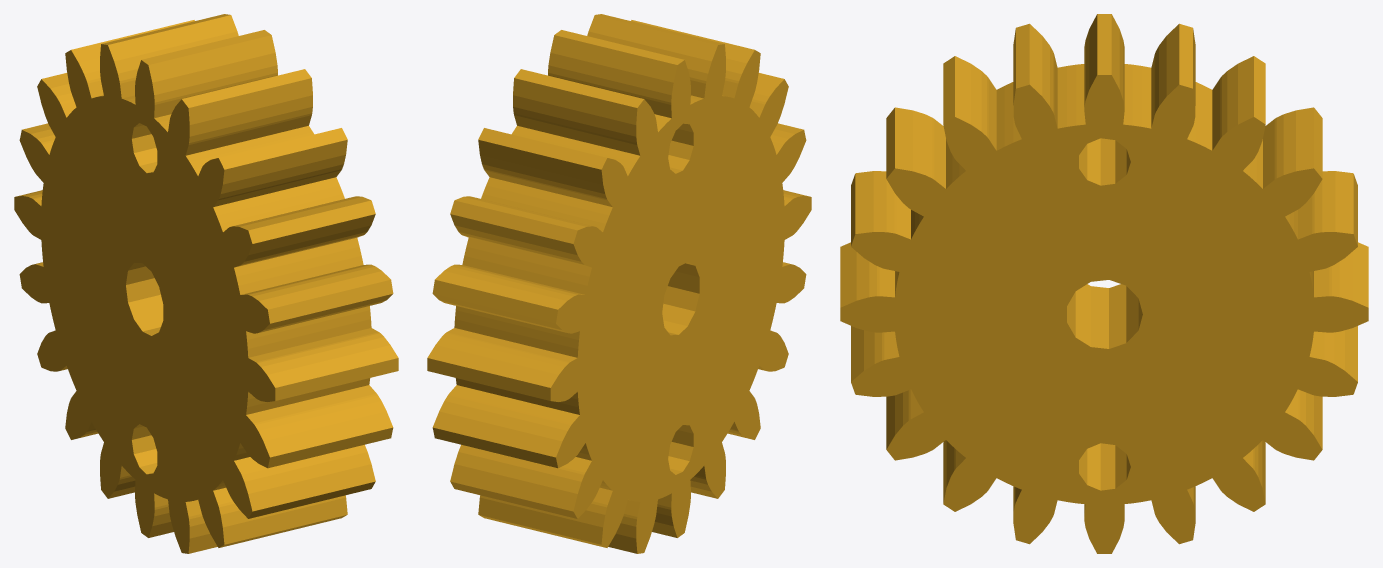
3 renders of one model, left to right at view 1: azimuth 30°, elevation 25°; view 2: azimuth 150°, elevation 25°; view 3: azimuth 270°, elevation 25°, orthographic.
Parts seen in each view (by area): view 1: part_032; view 2: part_032; view 3: part_032.
Part boxes in pixels (x1,y1,x2,y2): part_032: (14,14,398,553); part_032: (427,14,811,553); part_032: (840,14,1368,553).
Bounding box in the file's own units: 0.006 × 0.022 × 0.022.
